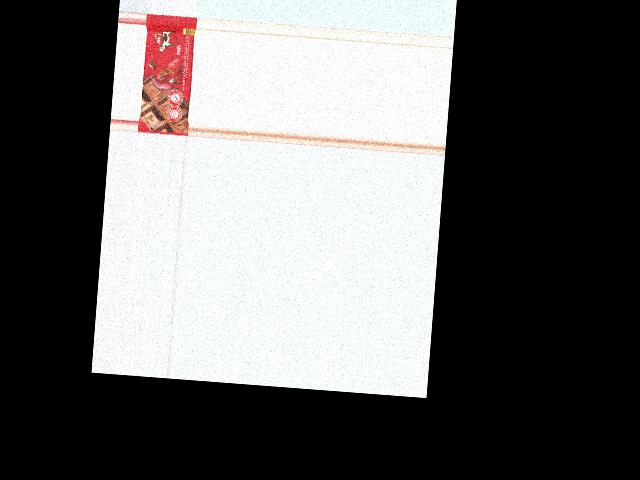chocolate: (138, 12, 197, 136)
